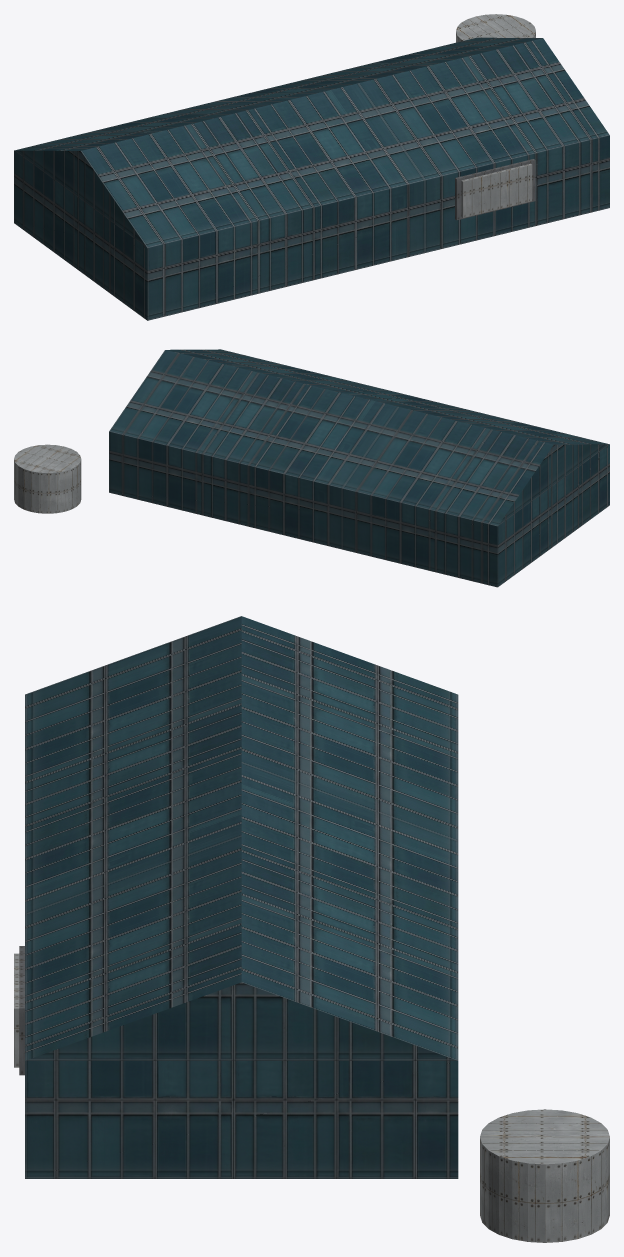
File: greenhouse_lod0.gltf
3 views of the same model, one above another, from view 1: azimuth 30°, elevation 25°; view 2: azimuth 150°, elevation 25°; view 3: azimuth 270°, elevation 25° (orthographic). The views are drawn at different scales.
Visible parts, largest first — view 1: greenhouse_roof, greenhouse_walls, greenhouse_gable_ends, greenhouse__vent_window, greenhouse__water_tank, greenhouse__vent_frame; view 2: greenhouse_roof, greenhouse_walls, greenhouse__water_tank, greenhouse_gable_ends; view 3: greenhouse_roof, greenhouse_walls, greenhouse_gable_ends, greenhouse__water_tank.
Boxes of the visible parts, bbox=[...] form: greenhouse_roof: bbox=[14, 37, 609, 248]; greenhouse_walls: bbox=[14, 135, 609, 320]; greenhouse_gable_ends: bbox=[14, 150, 146, 247]; greenhouse__vent_window: bbox=[461, 163, 532, 217]; greenhouse__water_tank: bbox=[456, 14, 535, 42]; greenhouse__vent_frame: bbox=[455, 159, 535, 220]; greenhouse_roof: bbox=[109, 349, 608, 526]; greenhouse_walls: bbox=[109, 431, 609, 587]; greenhouse__water_tank: bbox=[14, 444, 81, 513]; greenhouse_gable_ends: bbox=[498, 444, 609, 525]; greenhouse_roof: bbox=[25, 616, 458, 1060]; greenhouse_walls: bbox=[25, 1061, 458, 1178]; greenhouse_gable_ends: bbox=[25, 982, 457, 1060]; greenhouse__water_tank: bbox=[480, 1109, 609, 1242].
Bounding box in the file's own units: 23.5 × 5 × 13.75.
